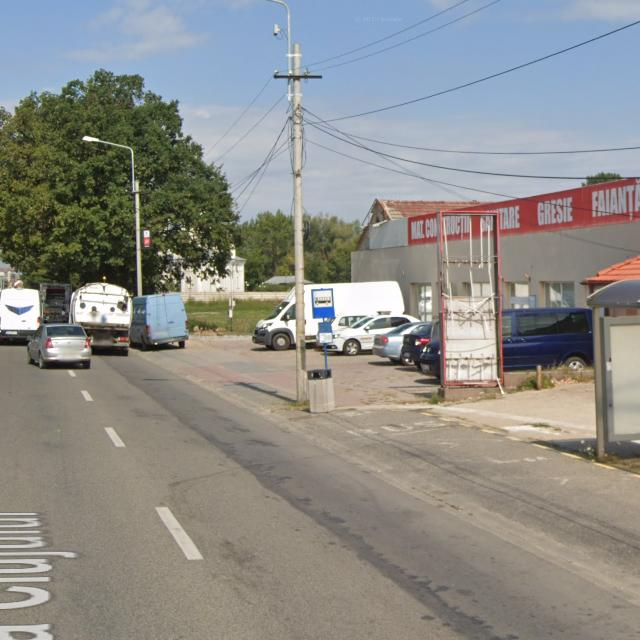info_bus_station: (310, 287, 336, 320)
